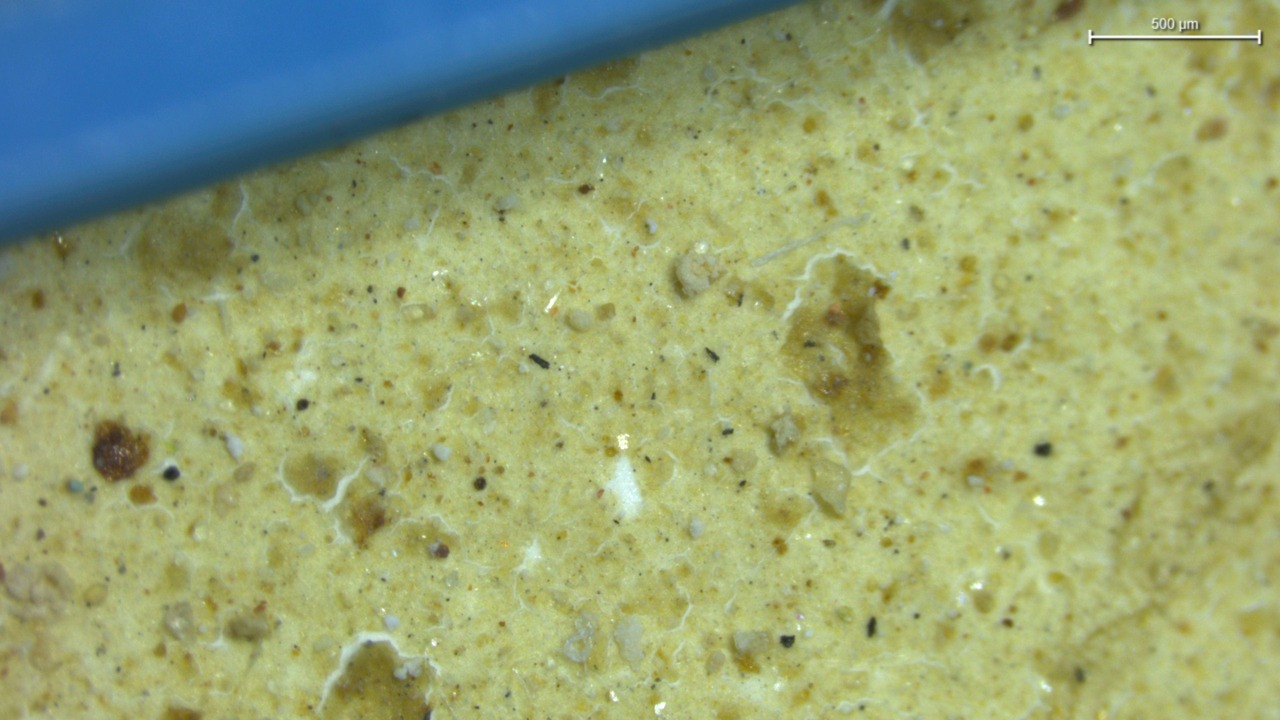microplastic_fragment: (674, 251, 724, 297)
